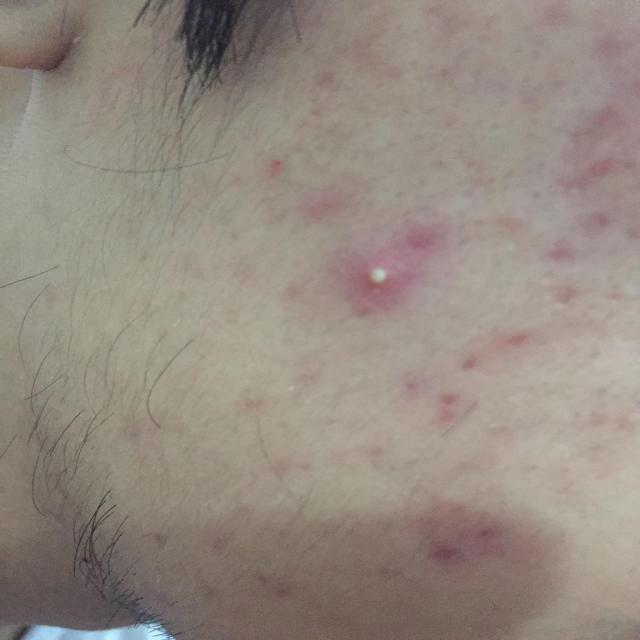Pimples: (328, 238, 417, 324)
